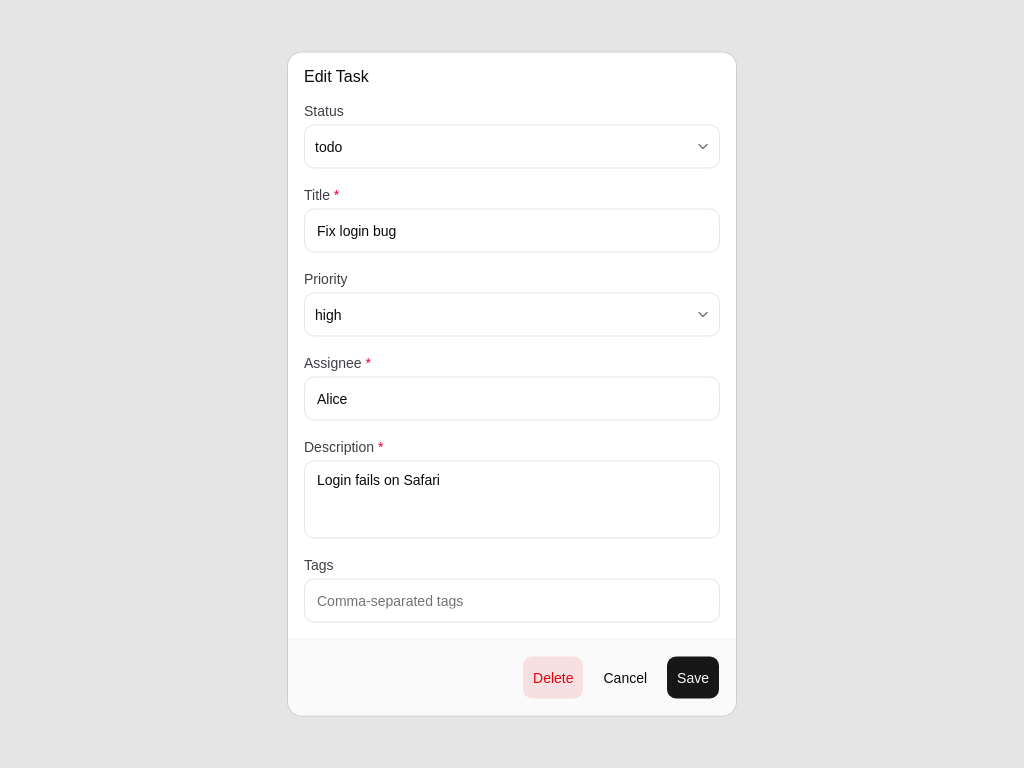
Test: TaskModal — edit mode › shows guard dialog when Cancel attempted with dirty fields in edit mode
Replace the text in the field labelled "Title *" with "Changed" at (512, 230), box [304, 208, 720, 252]
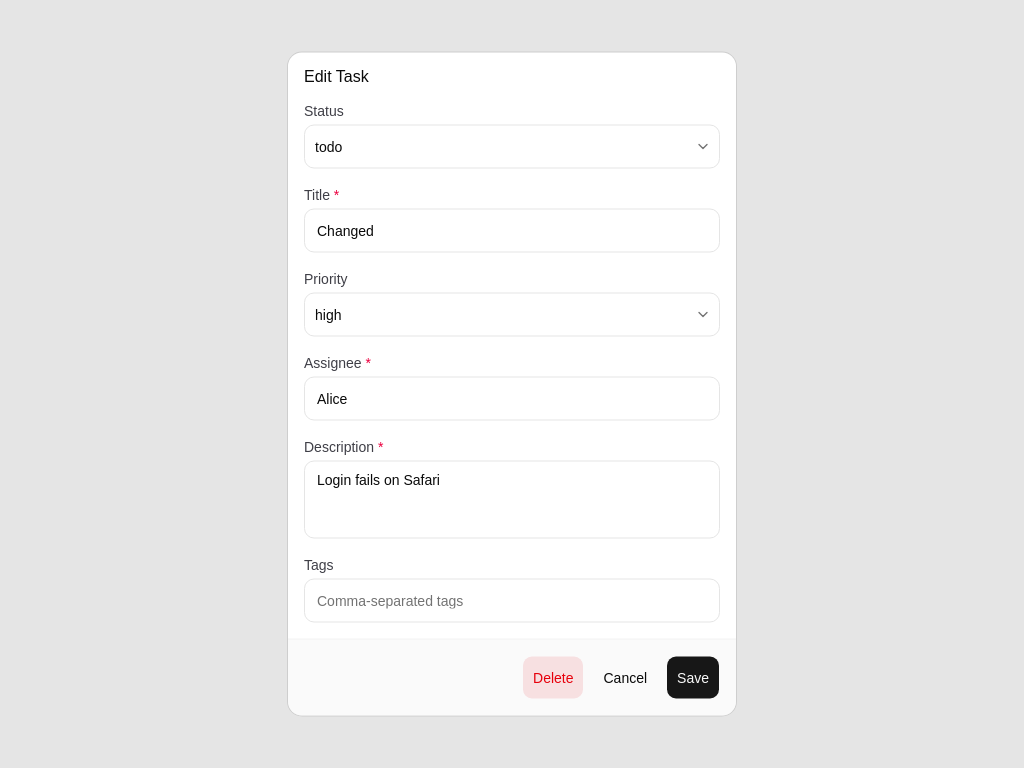
Click the button "Cancel".
click(625, 678)  # box [592, 656, 658, 700]
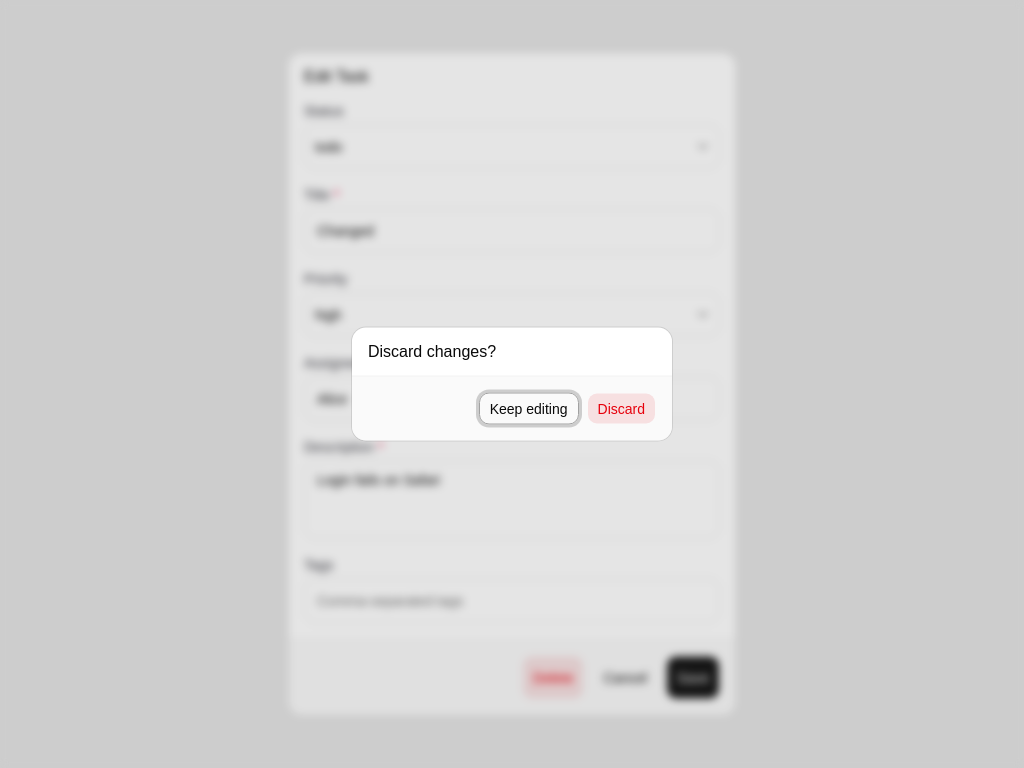
expect the heading "Discard changes?" is shown: met, box [368, 342, 496, 360]
